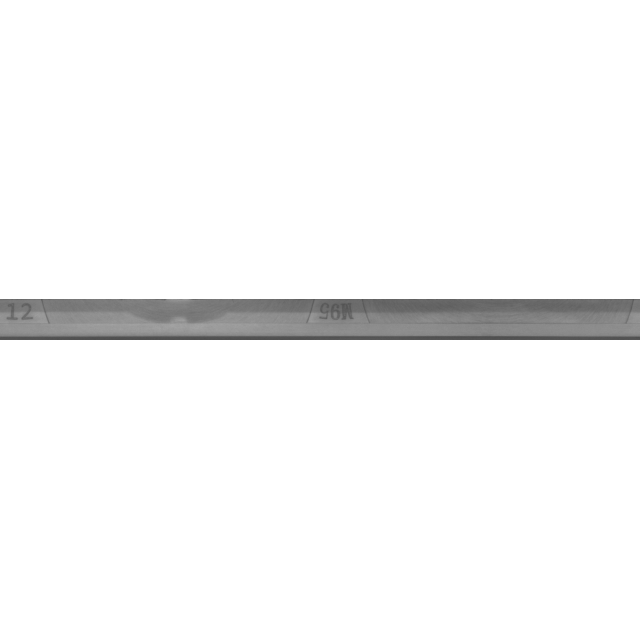mohao: (236, 270, 436, 370)
xuehao: (0, 270, 120, 370)
